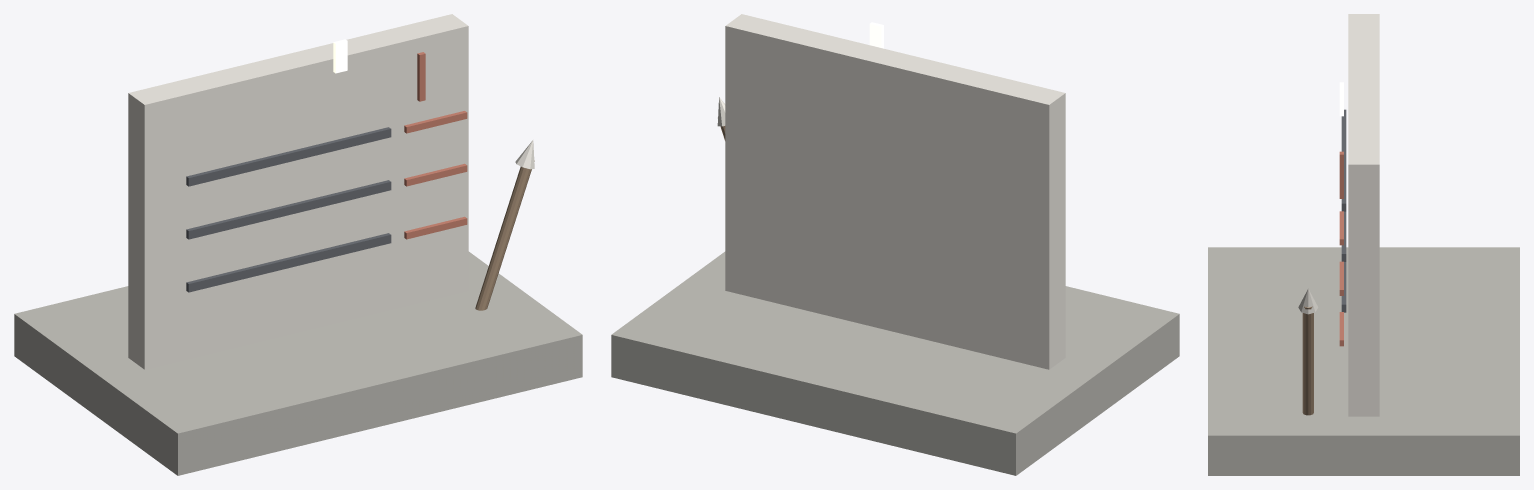
Rendered from LM29_Toulouse.glb.
The picture shows the model from 3 angles, left to right: view 1: azimuth 30°, elevation 25°; view 2: azimuth 150°, elevation 25°; view 3: azimuth 270°, elevation 25°; orthographic projection. The views are drawn at different scales.
Visible parts, largest first — view 1: FermatPage, ToulouseBase, TextLine0, TextLine1, TextLine2, QuillShaft, Margin1, Margin2, Margin0; view 2: FermatPage, ToulouseBase; view 3: ToulouseBase, FermatPage, QuillShaft, TextLine2.
Boxes of the visible parts, x1,y1,x2,y2 form: FermatPage: [128, 14, 468, 369]; ToulouseBase: [14, 251, 582, 475]; TextLine0: [186, 233, 391, 292]; TextLine1: [186, 180, 391, 239]; TextLine2: [186, 127, 391, 186]; QuillShaft: [475, 160, 534, 310]; Margin1: [404, 163, 467, 186]; Margin2: [404, 111, 467, 133]; Margin0: [404, 216, 467, 239]; FermatPage: [725, 14, 1065, 369]; ToulouseBase: [611, 251, 1179, 475]; ToulouseBase: [1208, 247, 1519, 475]; FermatPage: [1348, 14, 1379, 416]; QuillShaft: [1302, 306, 1313, 415]; TextLine2: [1341, 109, 1346, 211].
Size of the model in its own units: 2.02 by 1.54 by 1.4.
